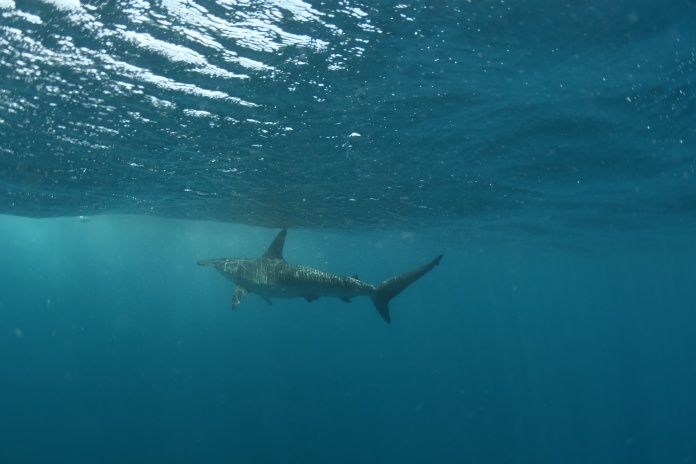Hammer: (178, 207, 467, 344)
